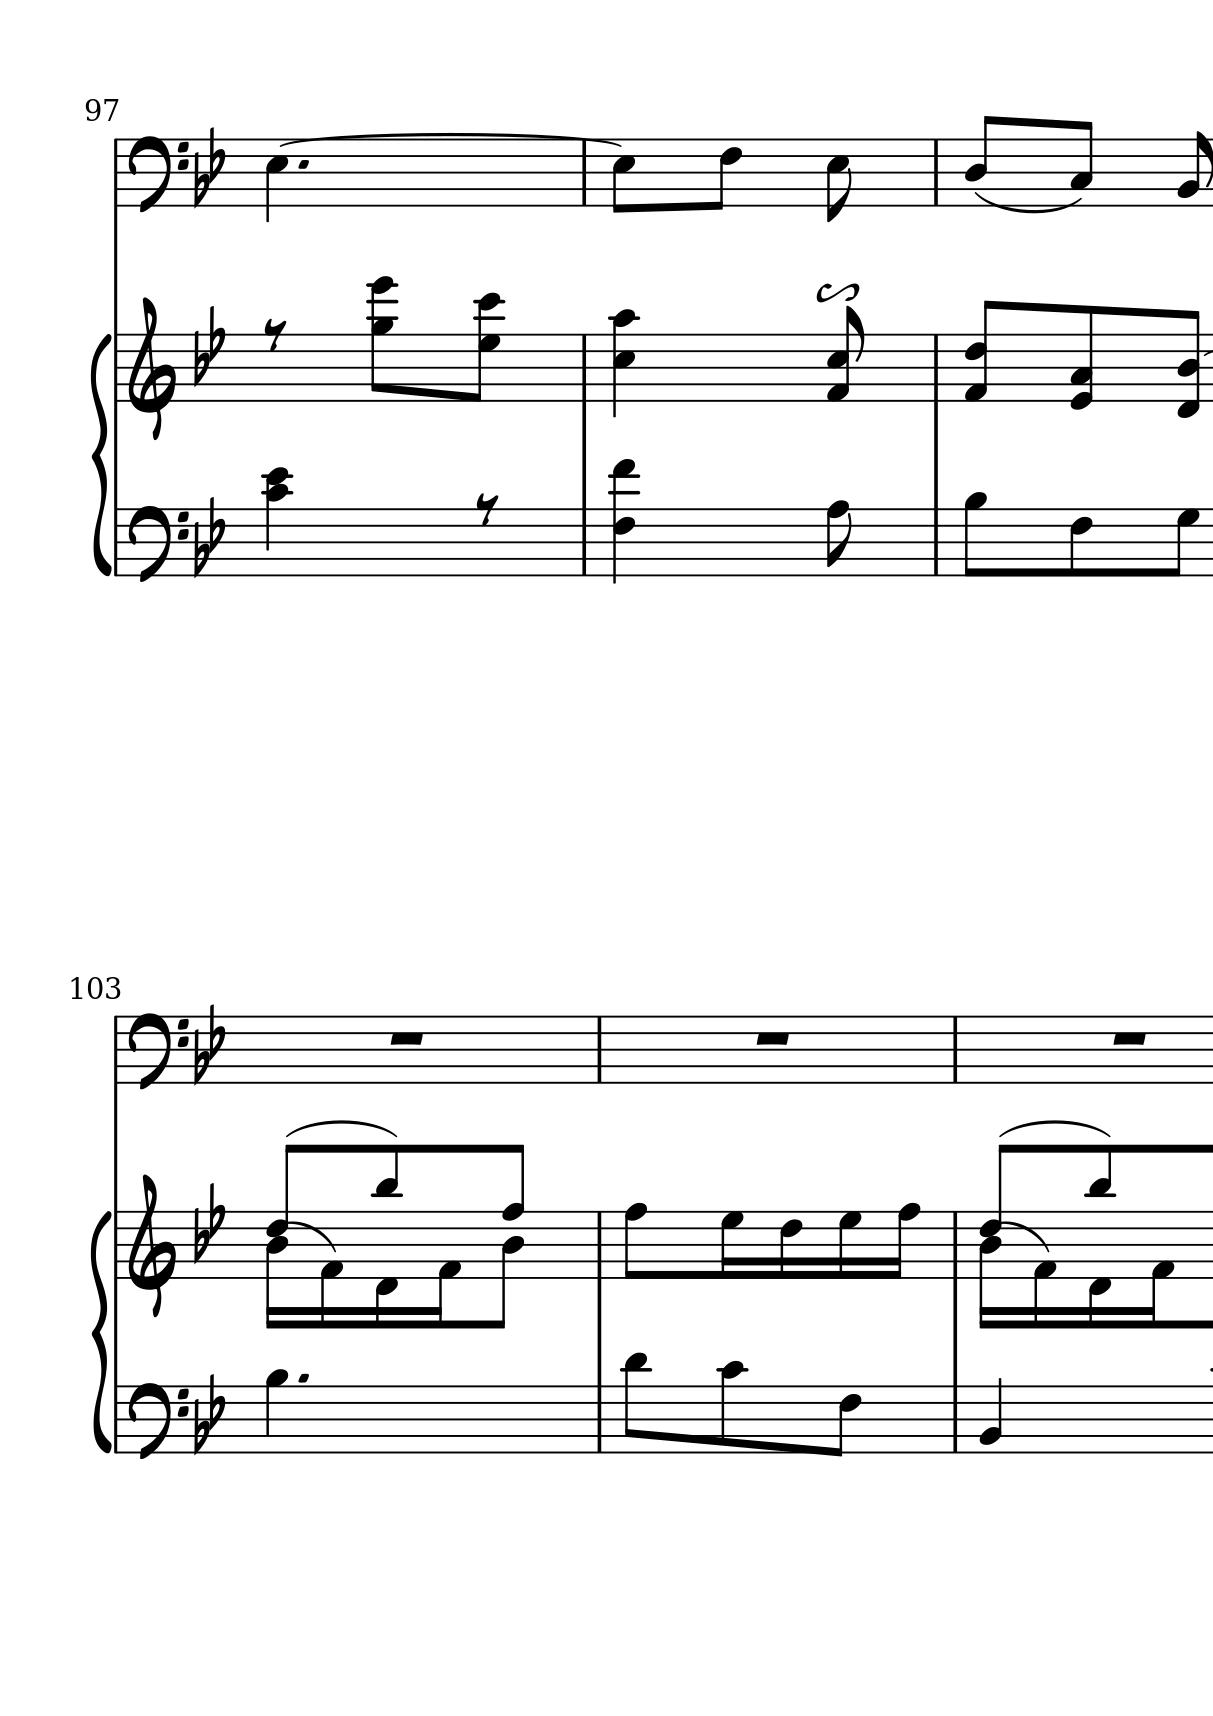0: (87, 972, 102, 1002)
1: (68, 974, 83, 1003)
16_-1: (374, 1209, 400, 1331), (1087, 1208, 1112, 1330)
16_1: (431, 1207, 461, 1330), (1143, 1207, 1174, 1329), (316, 1208, 343, 1330), (1031, 1208, 1055, 1330)
16_6: (777, 1209, 803, 1281)
16_7: (835, 1209, 862, 1281), (718, 1209, 743, 1281)
16_8: (885, 1201, 919, 1281)
3: (104, 976, 121, 1000)
4_10_12: (263, 467, 293, 578)
4_2: (977, 1376, 1004, 1456)
4_5: (263, 137, 289, 225)
4_5_10: (606, 309, 641, 418)
4_6_13: (608, 458, 641, 586)
4_9: (264, 1367, 289, 1455)
7: (102, 97, 119, 125)
8_-1_4: (1175, 309, 1202, 419)
8_0_3: (1069, 305, 1096, 412)
8_10: (715, 1360, 747, 1455)
8_11: (374, 1142, 400, 1277), (1084, 1142, 1111, 1277), (620, 1352, 651, 1455)
8_1_5: (826, 305, 868, 404)
8_1_6: (964, 297, 1000, 402)
8_2: (1175, 129, 1210, 207)
8_3: (1069, 118, 1094, 207)
8_4: (964, 113, 996, 207)
8_5: (824, 137, 851, 225), (610, 137, 635, 215)
8_6: (827, 1383, 861, 1459), (709, 137, 742, 213), (1069, 505, 1094, 579)
8_6_8: (496, 1144, 526, 1331)
8_7: (1167, 507, 1199, 578)
8_7_12: (467, 291, 504, 404)
8_8: (824, 499, 852, 579), (622, 1201, 649, 1281)
8_9: (962, 491, 986, 578)
8_9_14: (366, 274, 400, 403)
9: (83, 97, 101, 125)
B_F: (190, 305, 224, 389), (190, 496, 224, 578), (190, 1003, 224, 1084), (192, 1182, 224, 1266), (192, 127, 226, 207), (192, 1373, 224, 1455)
Brace: (87, 331, 112, 576), (87, 1214, 112, 1449)
Fclef: (125, 1011, 190, 1092), (126, 503, 189, 586), (126, 1380, 189, 1463), (125, 133, 188, 214)
Gclef: (126, 1171, 177, 1319), (126, 295, 177, 441)
Inverted_turn: (815, 282, 862, 306)
Rests1: (1108, 1028, 1150, 1049), (386, 1028, 427, 1048), (752, 1028, 793, 1048)
Rests8: (473, 490, 500, 526), (261, 316, 287, 351)
Single_barline: (926, 508, 947, 576), (574, 142, 595, 206), (574, 509, 593, 576), (589, 1386, 609, 1453), (575, 335, 595, 400), (927, 335, 947, 400), (589, 1212, 609, 1277), (947, 1212, 965, 1279), (947, 1386, 965, 1453), (589, 1018, 608, 1083), (927, 140, 945, 204), (947, 1018, 964, 1082), (108, 1018, 123, 1083), (108, 139, 122, 206), (109, 509, 123, 574), (110, 333, 123, 402), (110, 1386, 123, 1451), (112, 1211, 123, 1281)
Slur: (277, 131, 625, 148), (971, 190, 1083, 215), (994, 1121, 1111, 1138), (285, 1119, 396, 1136), (285, 1218, 337, 1253), (999, 1220, 1049, 1253)
dot: (294, 158, 311, 172), (293, 1371, 310, 1385)
